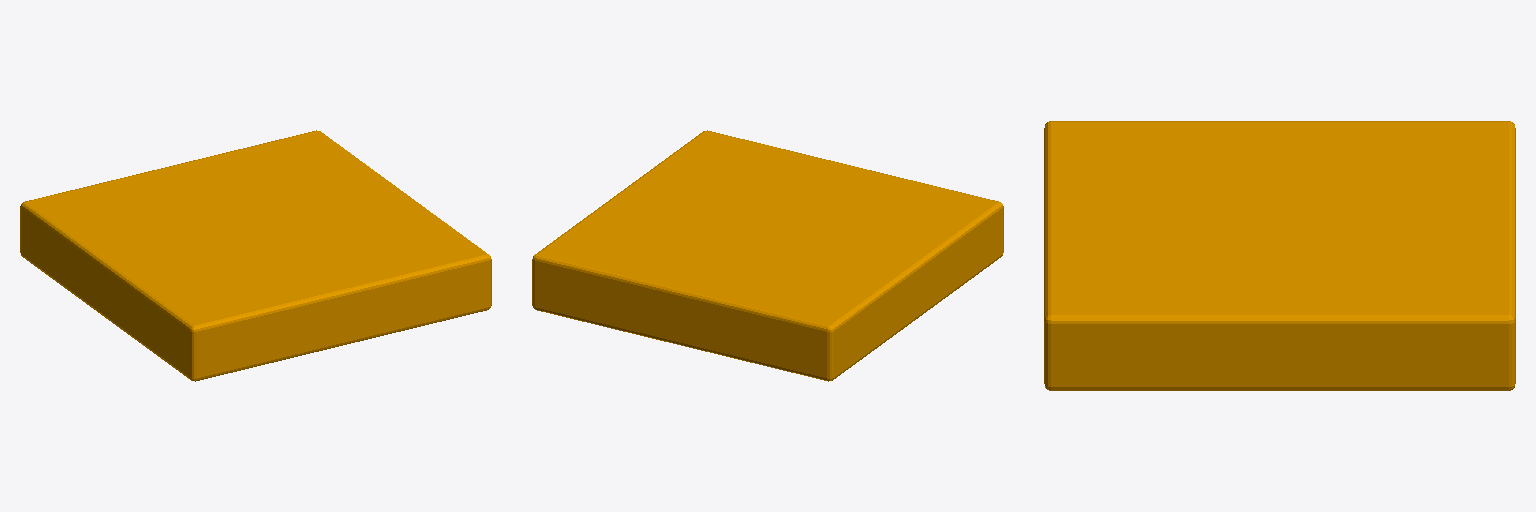
URDF robot description (plank_washer_target_point):
<?xml version="1.0" ?>
<robot name="plank_washer_target_point">
  <link name="base_link">
    <inertial>
      <origin xyz="0 0 0.0075" rpy="0 0 0"/>
      <mass value="0.0541875"/>
      <inertia ixx="3.36414063e-05" ixy="0" ixz="0" iyy="3.36414063e-05" iyz="0" izz="6.52507813e-05"/>
    </inertial>
    <visual name="visual">
      <origin xyz="0 0 0" rpy="0 0 0"/>
      <geometry>
        <mesh filename="meshes/visual.obj" scale="1 1 1"/>
      </geometry>
    </visual>
    <collision name="plank">
      <origin xyz="0 0 0" rpy="0 0 0"/>
      <geometry>
        <mesh filename="meshes/collision/plank.obj" scale="1 1 1"/>
      </geometry>
    </collision>
  </link>
</robot>

--- Render facts (derived) ---
Views: 3 orthographic renders of the robot side by side, from view 1: azimuth 30°, elevation 25°; view 2: azimuth 150°, elevation 25°; view 3: azimuth 270°, elevation 25°.
Robot: plank_washer_target_point — 1 links, 0 joints (none); root link base_link; default pose: all joints at 0.
Links seen in each view (by area): view 1: base_link; view 2: base_link; view 3: base_link.
Link boxes in pixels (<box>): base_link: <box>20,130,491,381</box>; base_link: <box>532,130,1003,381</box>; base_link: <box>1044,121,1515,390</box>.
Size in the robot's own frame: 0.085 by 0.085 by 0.015 metres.
Meshes: 1 distinct files referenced, 1 mesh visuals loaded (1 OBJ).
